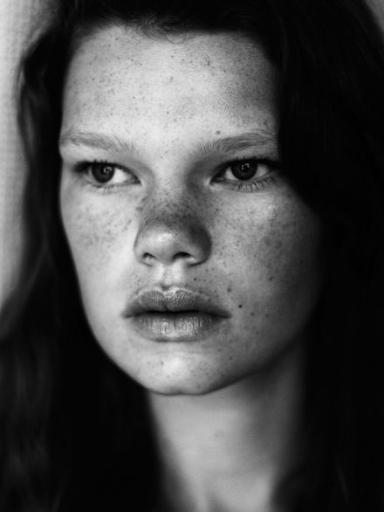left_eye: (210, 157, 273, 196)
left_lip_corner: (212, 303, 239, 330)
right_eye: (75, 161, 142, 197)
right_lip_corner: (118, 305, 138, 330)
